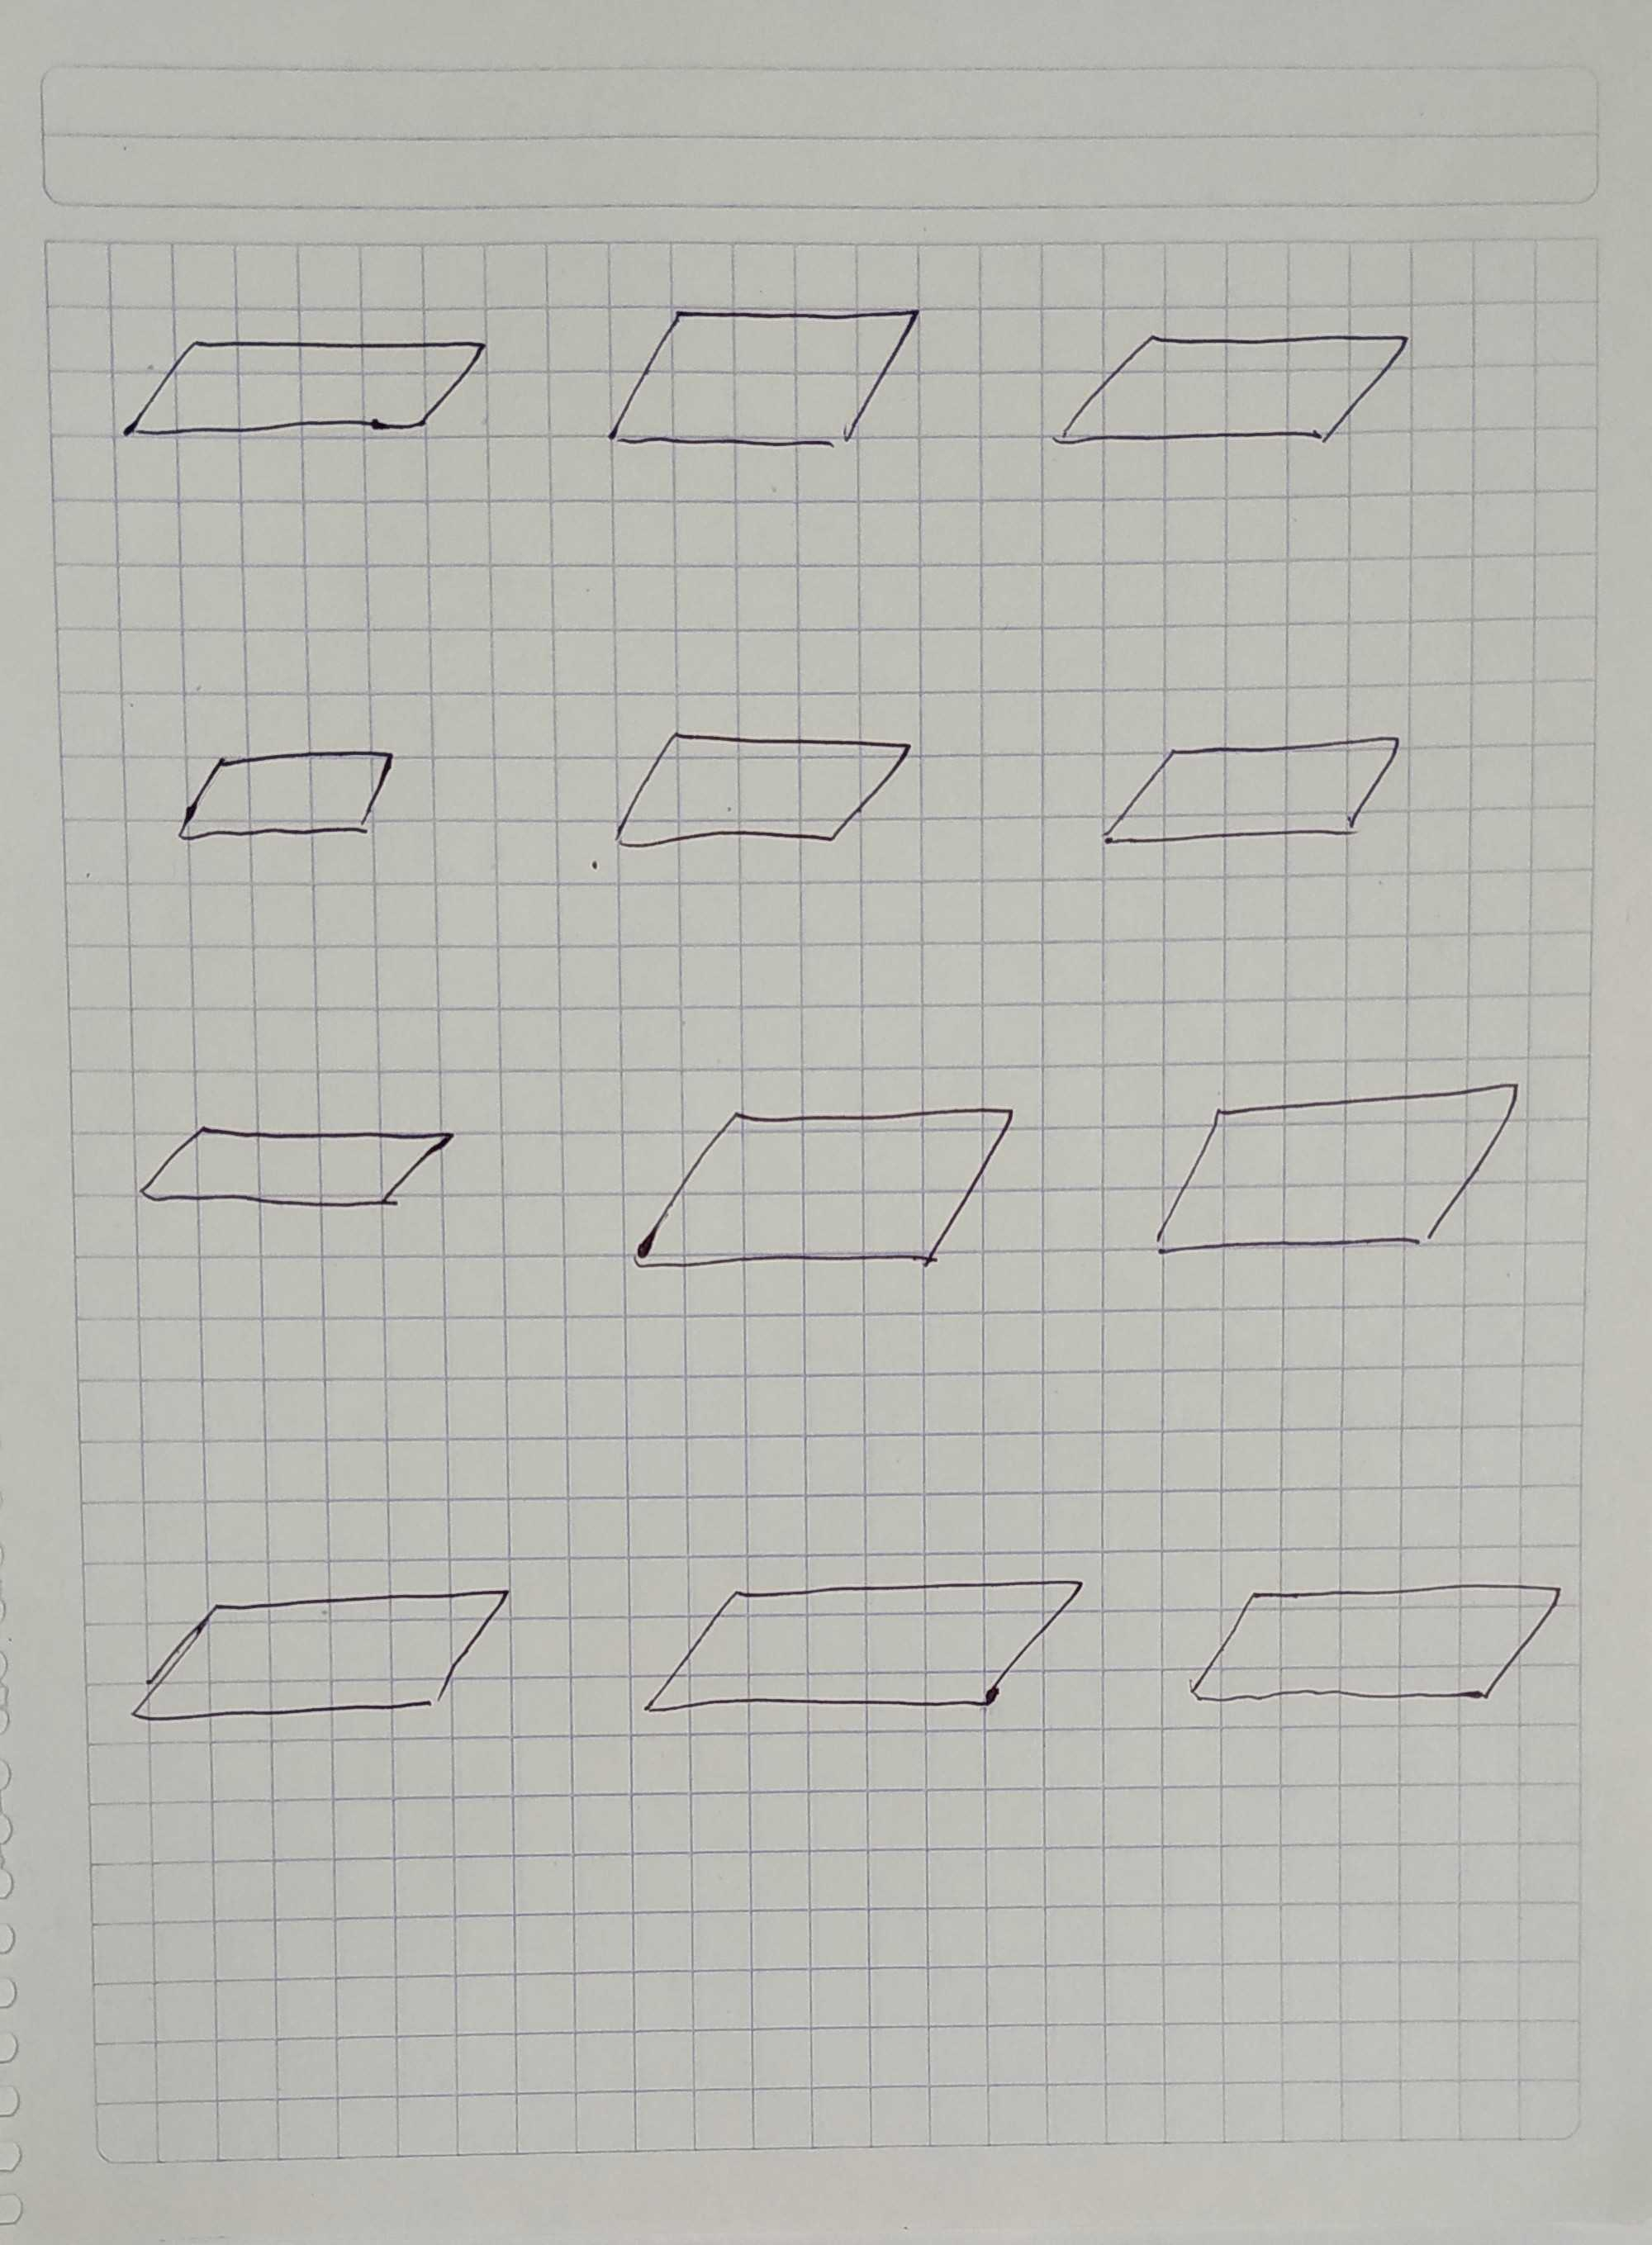scan: (1127, 1061, 1547, 1278), (615, 1082, 1028, 1302), (120, 1560, 528, 1766), (634, 1562, 1108, 1729), (1173, 1553, 1584, 1736), (1042, 307, 1434, 490), (1080, 695, 1427, 887), (587, 289, 943, 465), (601, 702, 943, 872), (118, 309, 495, 453), (112, 1103, 484, 1217), (159, 730, 415, 863)
